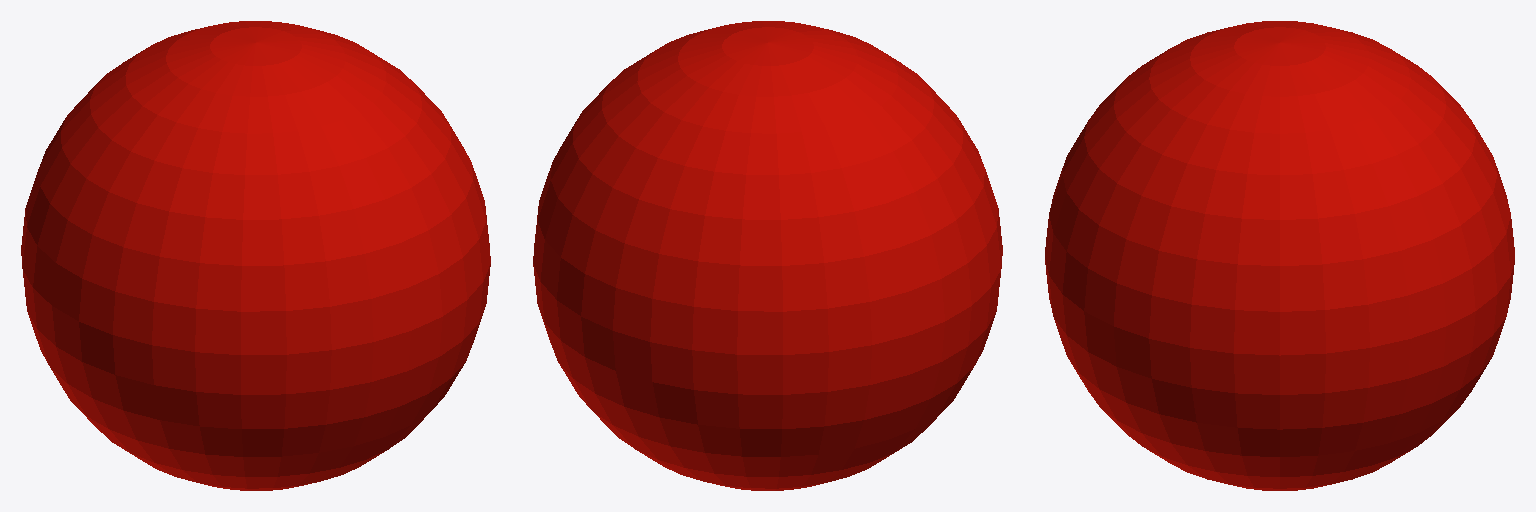
File: power_ball.obj
3 views of the same model, side by side, from view 1: azimuth 30°, elevation 25°; view 2: azimuth 150°, elevation 25°; view 3: azimuth 270°, elevation 25° (orthographic).
Parts seen in each view (by area): view 1: Sphere; view 2: Sphere; view 3: Sphere.
Boxes of the visible parts, x1,y1,x2,y2 form: Sphere: [21, 21, 490, 490]; Sphere: [533, 21, 1002, 490]; Sphere: [1045, 21, 1514, 490].
Size of the model in its own units: 1 by 1 by 1.